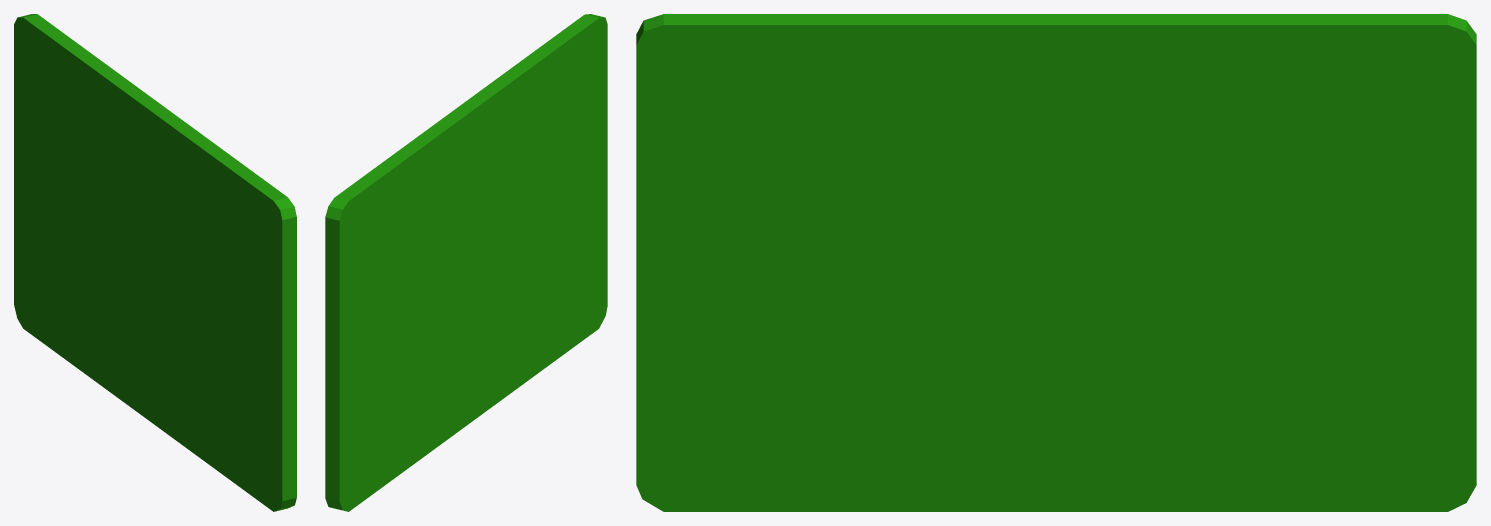
File: card.obj
3 renders of one model, left to right at view 1: azimuth 30°, elevation 25°; view 2: azimuth 150°, elevation 25°; view 3: azimuth 270°, elevation 25°, orthographic. The views are drawn at different scales.
Parts seen in each view (by area): view 1: Cube_Cube.001; view 2: Cube_Cube.001; view 3: Cube_Cube.001.
Part boxes in pixels (x1,y1,x2,y2): Cube_Cube.001: (14, 14, 296, 511); Cube_Cube.001: (325, 14, 607, 511); Cube_Cube.001: (636, 14, 1476, 511).
Size of the model in its own units: 0.0204 by 0.4184 by 0.6543.
